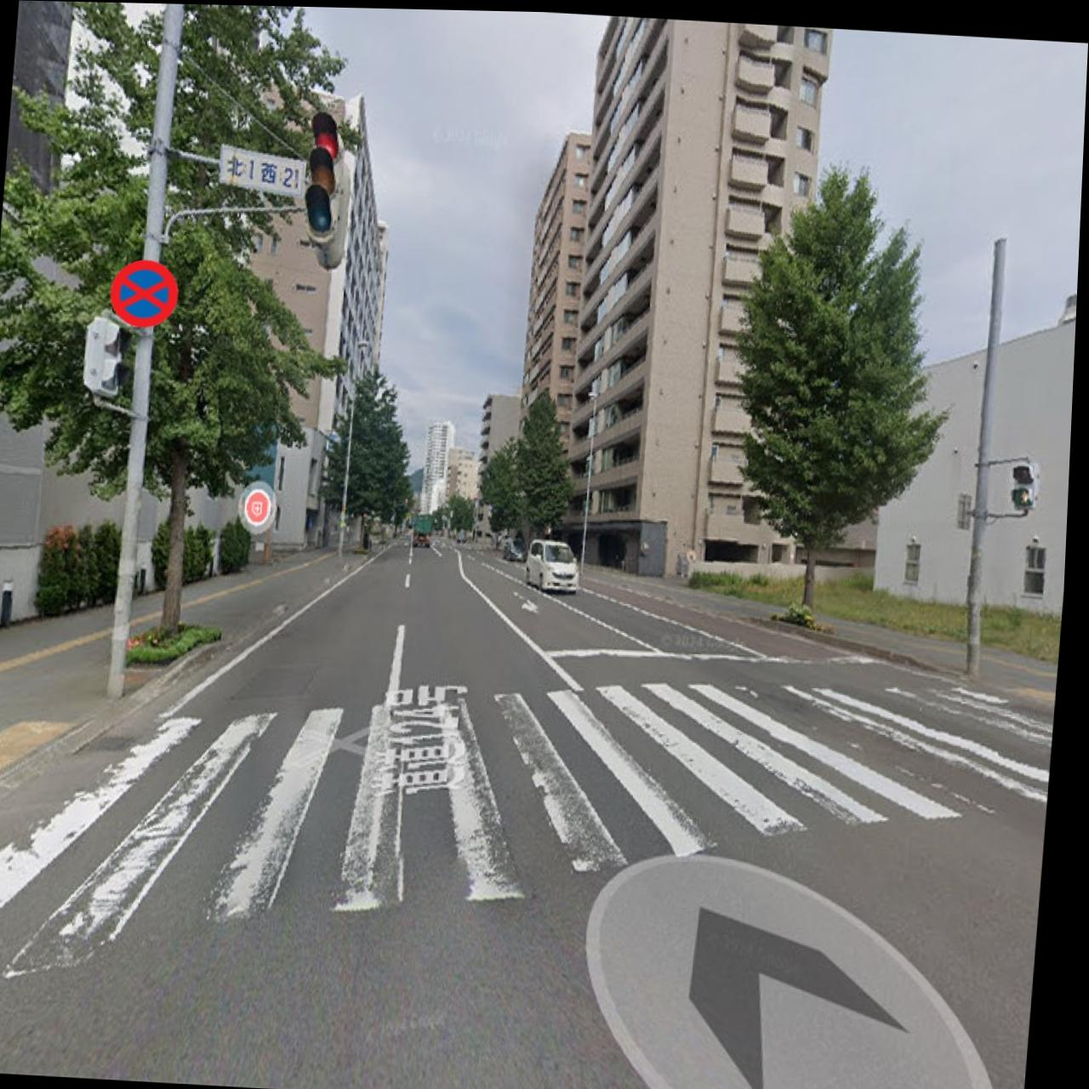stop_sign: (104, 252, 185, 331)
